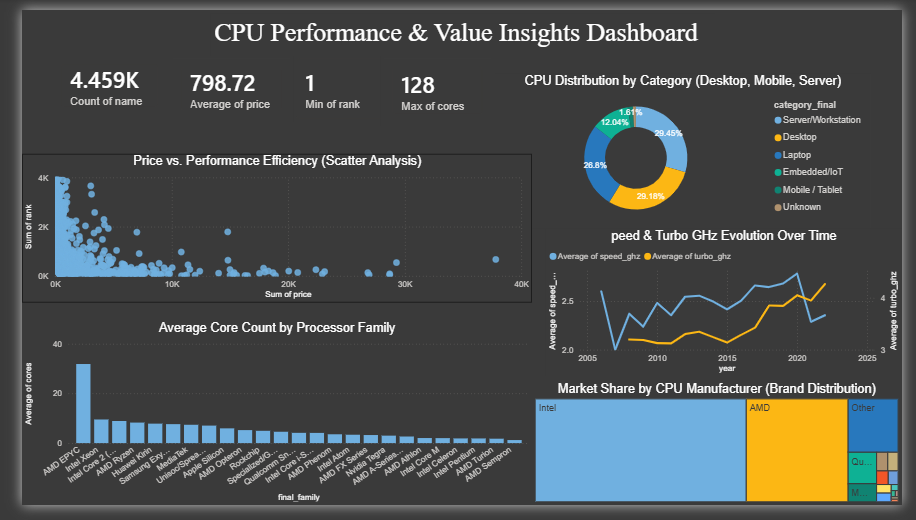

The page's visual inventory and layout, read from the dashboard file:
{"tool":"powerbi","page":{"name":"Page 1","canvas":[1280,720],"ordinal":0},"visuals":[{"type":"lineChart","title":"peed & Turbo GHz Evolution Over Time","fields":{"Y":["Avg(Final_CPU_Data_Cleaned1.speed_ghz)"],"Category":["Final_CPU_Data_Cleaned1.year"],"Y2":["Avg(Final_CPU_Data_Cleaned1.turbo_ghz)"]},"box":[762.3,318,518,214.8],"z":0},{"type":"columnChart","title":"Average Core Count by Processor Family","fields":{"Y":["Avg(Final_CPU_Data_Cleaned1.cores)"],"Category":["Final_CPU_Data_Cleaned1.final_family"]},"box":[0,450.8,742.6,268.9],"z":1000},{"type":"donutChart","title":"CPU Distribution by Category (Desktop, Mobile, Server)","fields":{"Y":["CountNonNull(Final_CPU_Data_Cleaned1.name)"],"Category":["Final_CPU_Data_Cleaned1.category_final"]},"box":[686.9,93.4,547.5,224.6],"z":2000},{"type":"scatterChart","title":"Price vs. Performance Efficiency (Scatter Analysis)","fields":{"X":["Sum(Final_CPU_Data_Cleaned1.price)"],"Category":["Final_CPU_Data_Cleaned1.name"],"Y":["Sum(Final_CPU_Data_Cleaned1.rank)"]},"box":[0,209.8,742.6,216.4],"z":3000},{"type":"cardVisual","fields":{"Data":["CountNonNull(Final_CPU_Data_Cleaned1.name)"]},"box":[39.3,62.3,175.4,96.7],"z":4000},{"type":"cardVisual","fields":{"Data":["Avg(Final_CPU_Data_Cleaned1.price)"]},"box":[214.8,65.6,180.3,98.4],"z":5000},{"type":"cardVisual","fields":{"Data":["Min(Final_CPU_Data_Cleaned1.rank)"]},"box":[395.1,65.6,149.2,98.4],"z":6000},{"type":"cardVisual","fields":{"Data":["Max(Final_CPU_Data_Cleaned1.cores)"]},"box":[521.3,65.6,165.6,103.3],"z":7000},{"type":"treemap","title":"Market Share by CPU Manufacturer (Brand Distribution)","fields":{"Group":["Final_CPU_Data_Cleaned1.brand"],"Values":["CountNonNull(Final_CPU_Data_Cleaned1.name)"]},"box":[742.6,539.3,537.7,180.3],"z":8000},{"type":"textbox","box":[273.8,4.9,732.8,60.7],"z":9000}]}

Visuals, with their boxes in screenshot pixels (x1, y1, x2, y2), scaled from the page's 1280x720 canvas onto the 916x520 screenshot:
"peed & Turbo GHz Evolution Over Time" lineChart: [left=546, top=230, right=915, bottom=385]
"Average Core Count by Processor Family" columnChart: [left=0, top=326, right=531, bottom=519]
"CPU Distribution by Category (Desktop, Mobile, Server)" donutChart: [left=492, top=67, right=883, bottom=230]
"Price vs. Performance Efficiency (Scatter Analysis)" scatterChart: [left=0, top=152, right=531, bottom=308]
cardVisual - CountNonNull(Final_CPU_Data_Cleaned1.name): [left=28, top=45, right=154, bottom=115]
cardVisual - Avg(Final_CPU_Data_Cleaned1.price): [left=154, top=47, right=283, bottom=118]
cardVisual - Min(Final_CPU_Data_Cleaned1.rank): [left=283, top=47, right=390, bottom=118]
cardVisual - Max(Final_CPU_Data_Cleaned1.cores): [left=373, top=47, right=492, bottom=122]
"Market Share by CPU Manufacturer (Brand Distribution)" treemap: [left=531, top=389, right=915, bottom=519]
textbox: [left=196, top=4, right=720, bottom=47]
